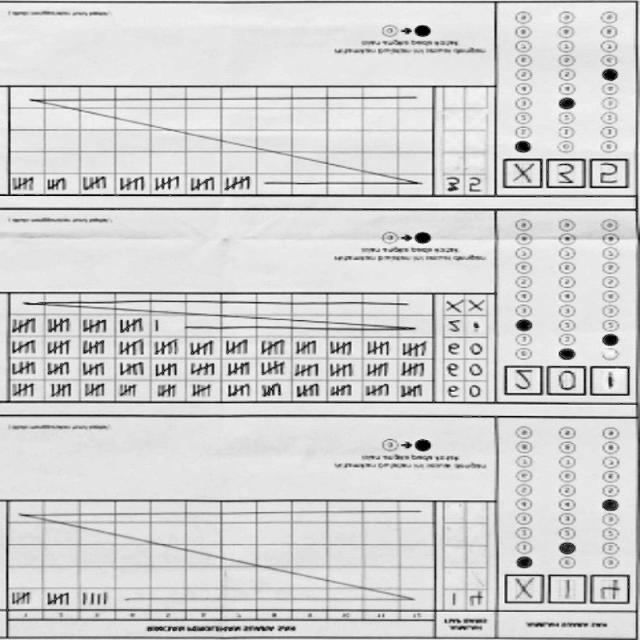Suara: (499, 572, 634, 613), (497, 364, 631, 405), (497, 155, 631, 196)
